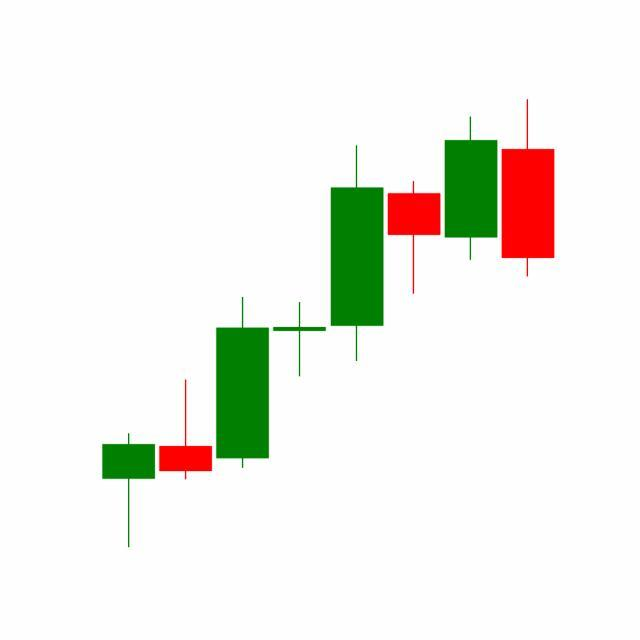Hikkake Pattern: (214, 113, 501, 472)
